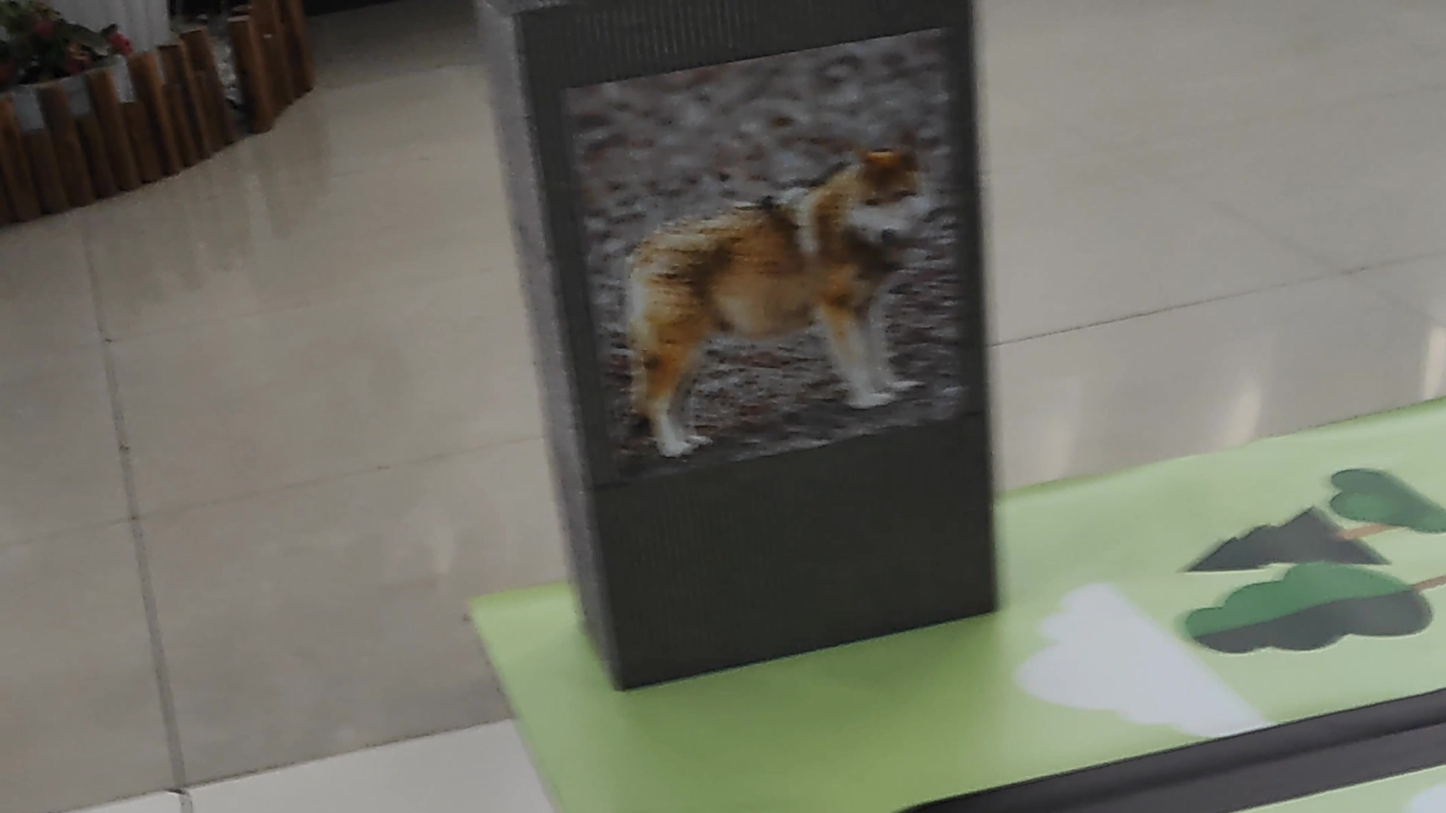wolf: (593, 128, 938, 449)
